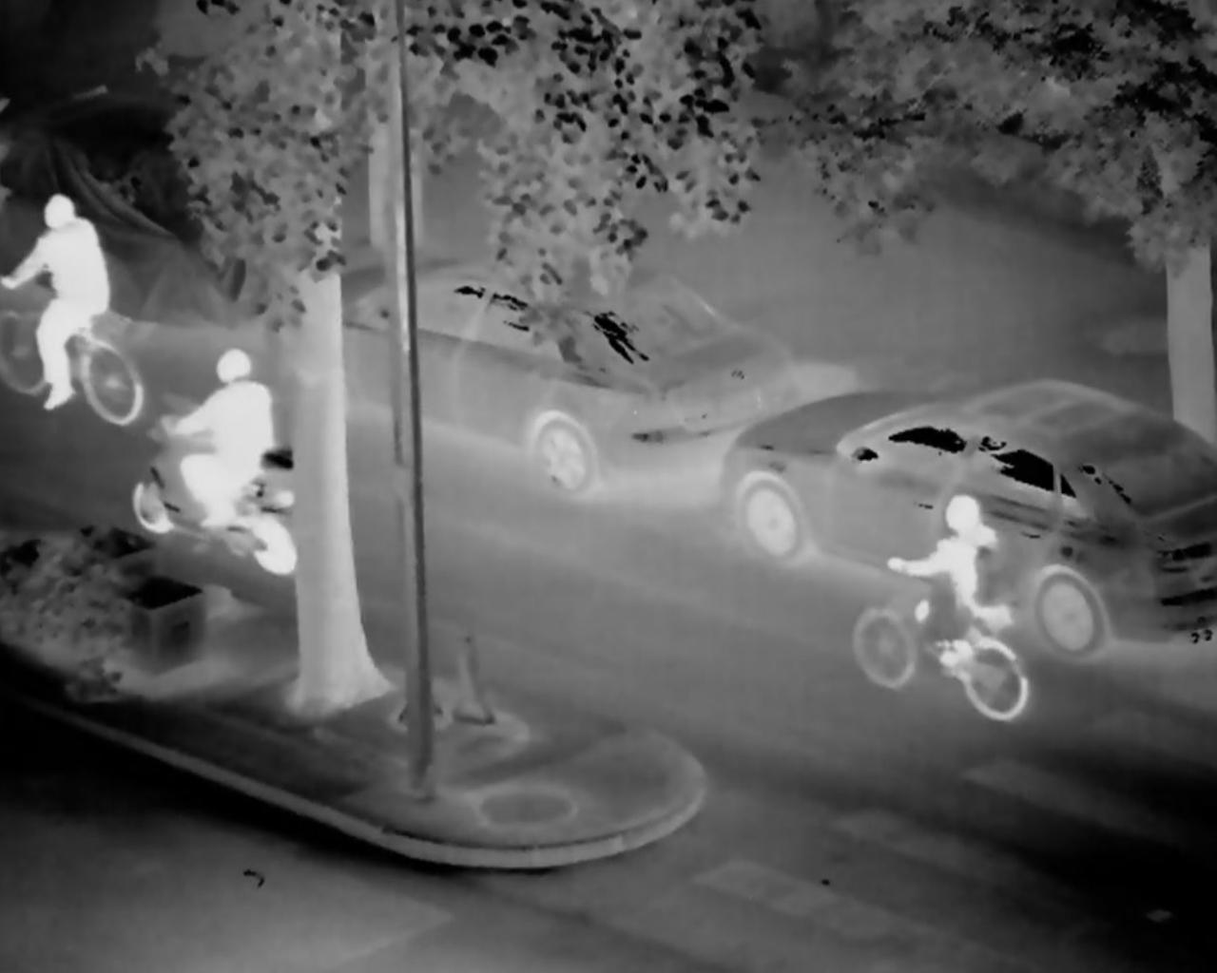person: (886, 496, 1031, 688), (156, 344, 282, 532), (7, 190, 103, 414)
